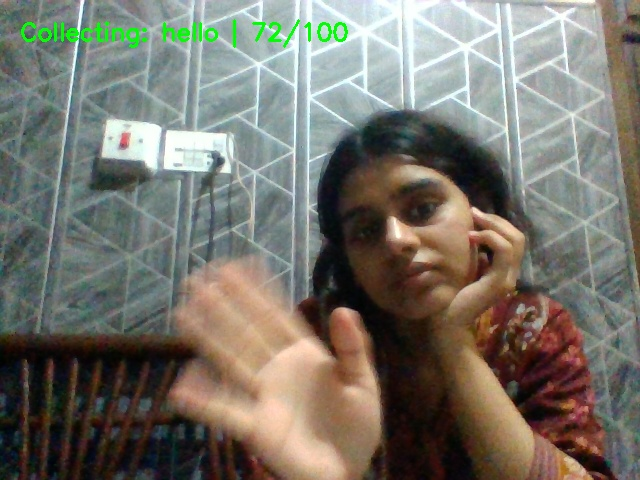hello: (149, 253, 396, 480)
